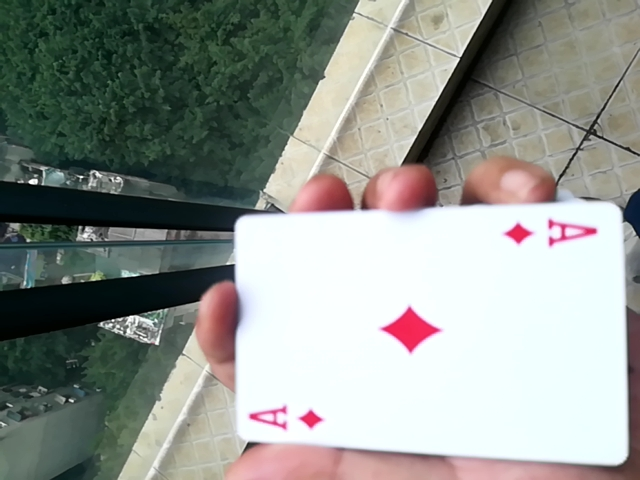fk a: (226, 210, 635, 468)
